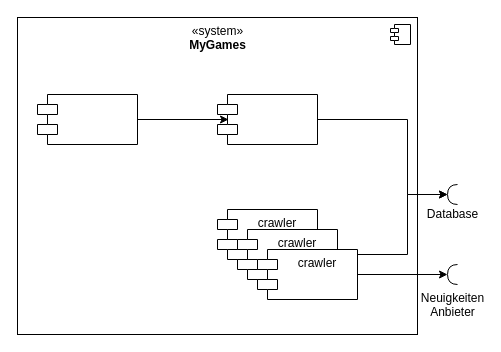
Image size: 501x352. Some labels were removed from this diagram. The shapes that lost their labels are listed below. From the top down, each one's centre as x and y in pixels, then its label:
the point at 87,119: APP
the point at 267,119: newsStream Api
